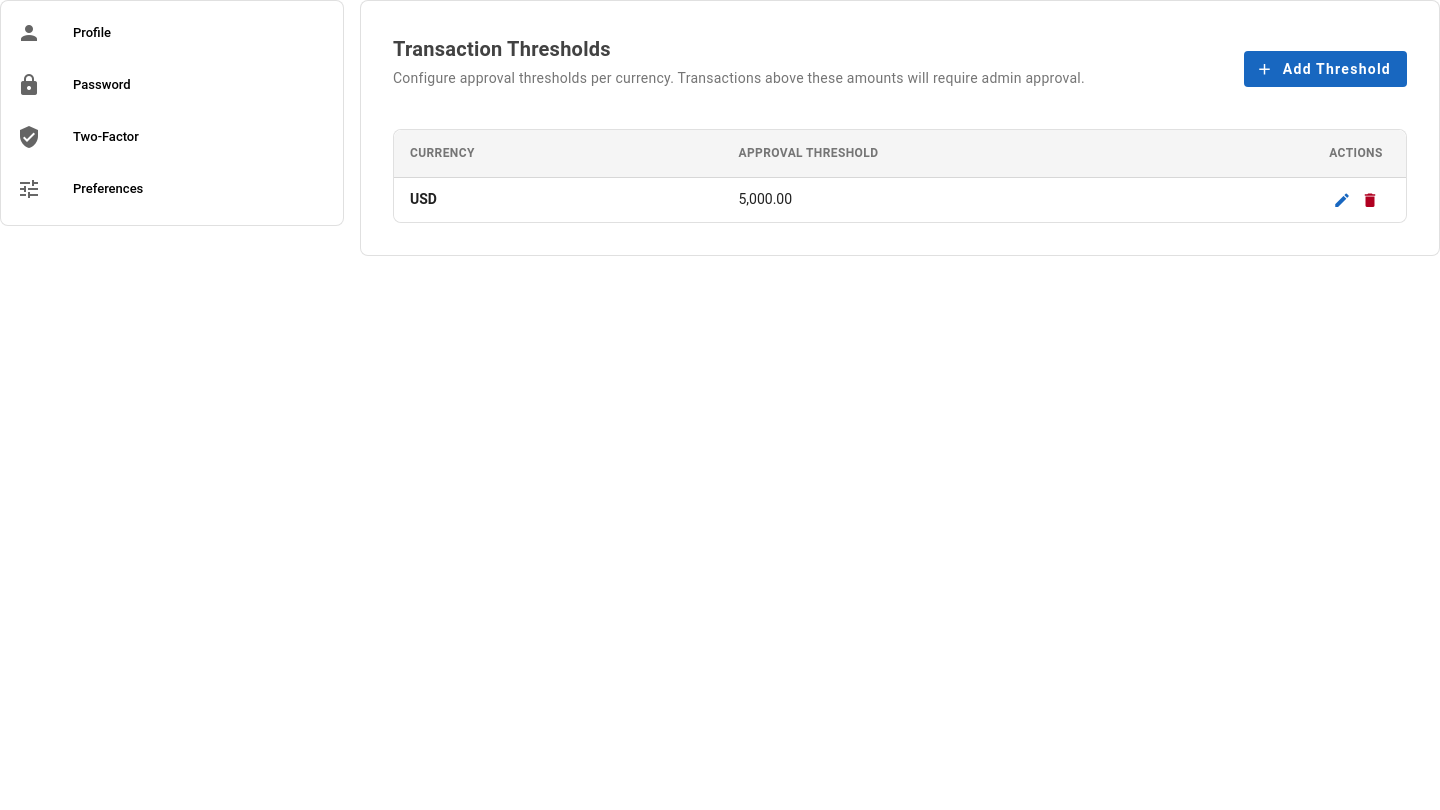
Test: thresholds.vue › shows only available currencies in add dialog dropdown
The image size is (1440, 810).
Note: Open the add dialog
Click the button "Add Threshold" at (1325, 69), box [1244, 51, 1407, 87]
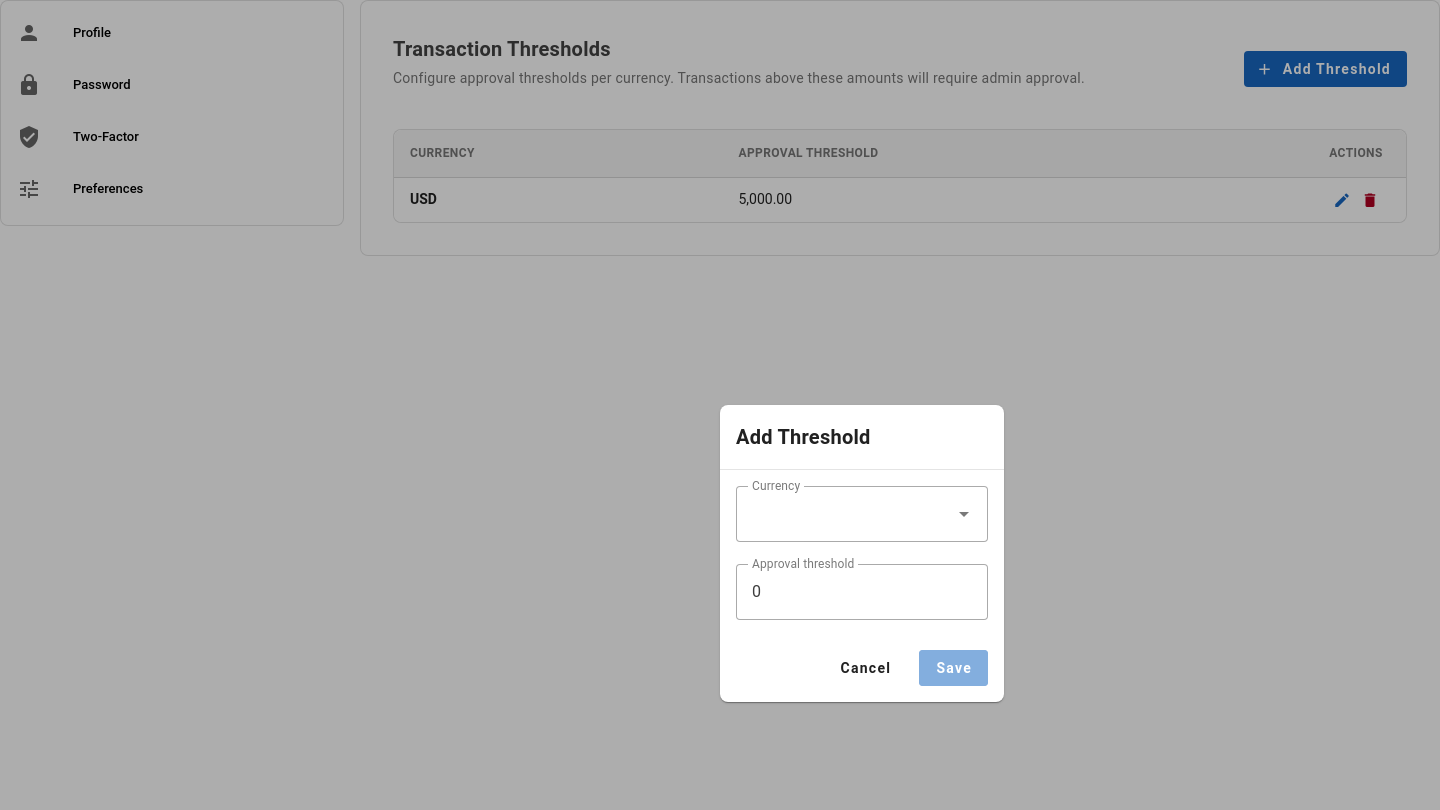
Now the element showing "Currency" is shown, box [736, 486, 988, 564]
